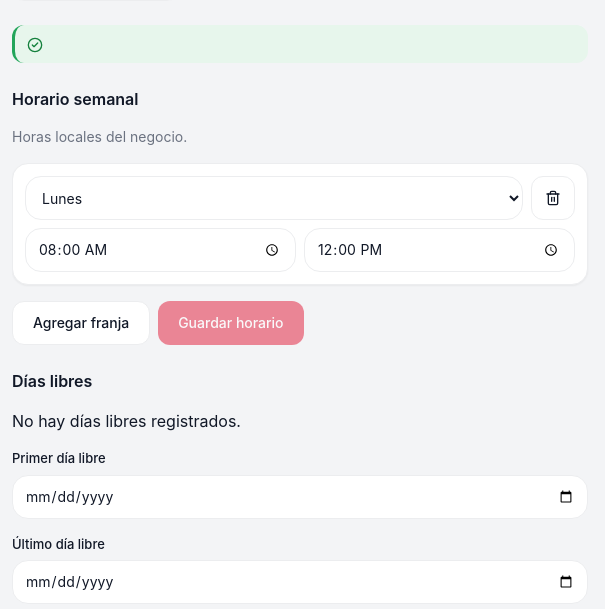
Test: TechnicianDetailPage: horario semanal › muestra el error de solapamiento que devuelve la API
(page scrolled)
Expected: the time field named "Inicio de la franja 1" is shown, [25,228,296,272]
Step 1. Click the button "Agregar franja" → (81, 323), box [12,301,150,345]
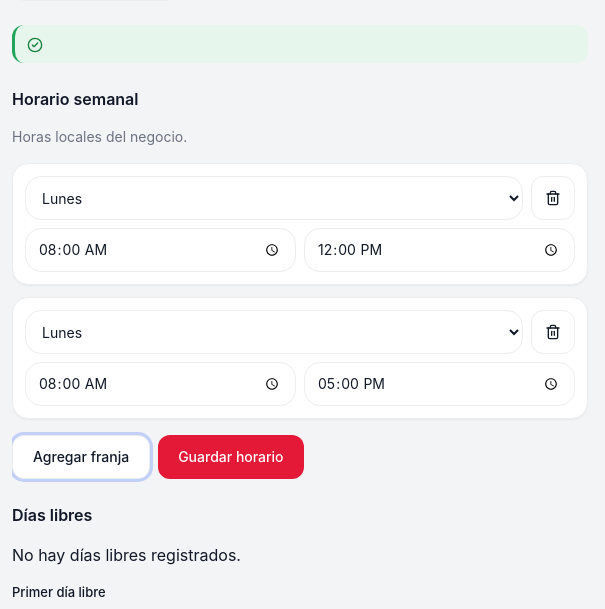
Step 2. Select "Martes" in the dropdown named "Día de la franja 2" → (274, 332), box [25,310,523,354]
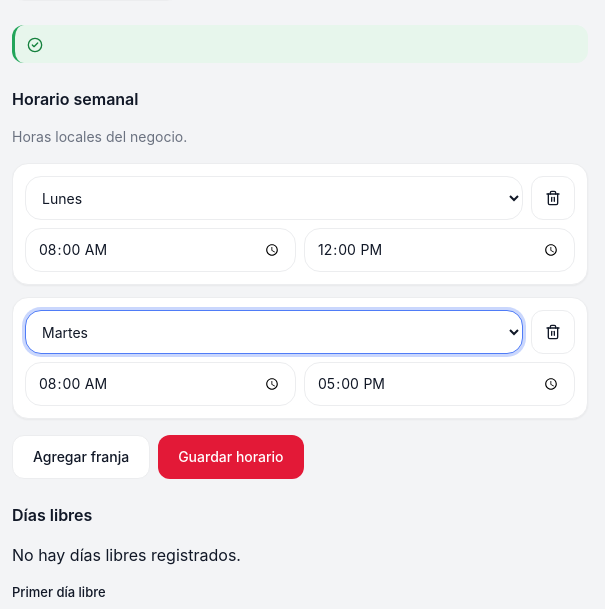
Step 3. Click the button "Guardar horario" → (231, 457), box [158,435,304,479]
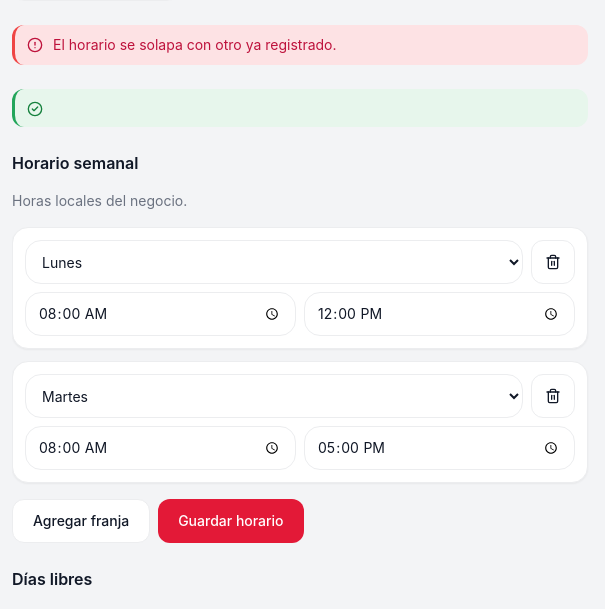
Expected: the message "El horario se solapa con otro ya registrado." is shown, [12,25,588,65]
